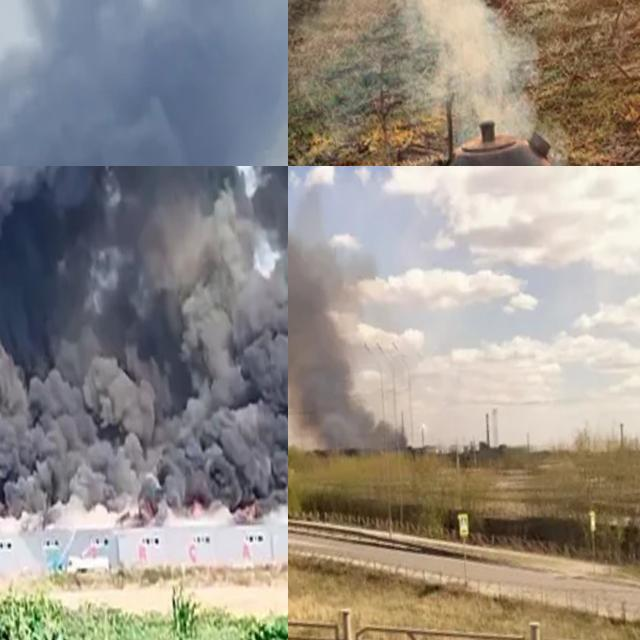smoke: (0, 166, 288, 551), (0, 0, 288, 166), (296, 0, 565, 140), (288, 179, 417, 456)
